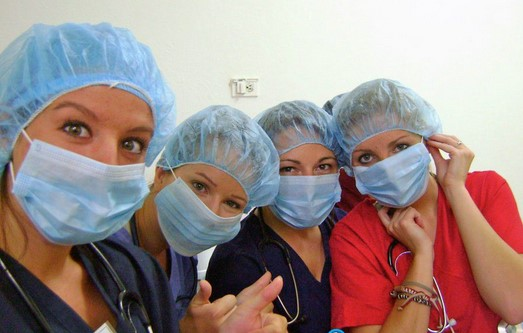face_with_mask: (0, 21, 177, 250), (156, 105, 275, 260), (338, 79, 434, 211), (254, 101, 338, 232)
